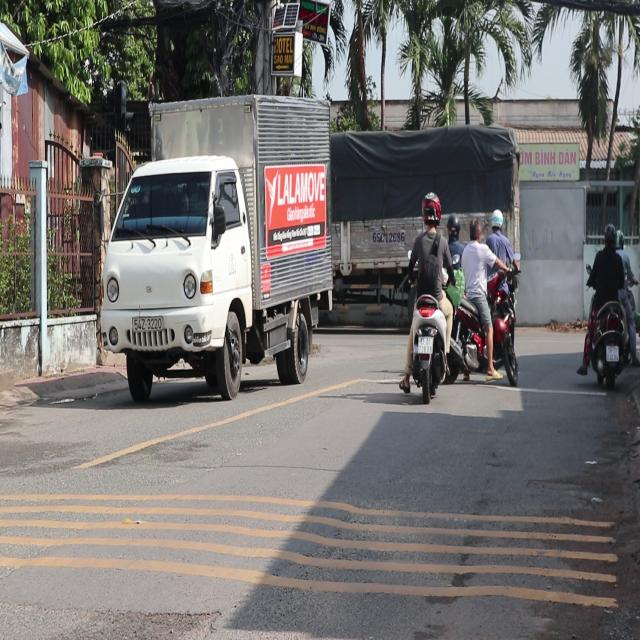helmet: (420, 192, 440, 229)
licenseplate: (451, 209, 520, 388), (400, 190, 453, 401)
motorcyclist: (468, 214, 482, 242)
nohelmet: (418, 336, 433, 353)
